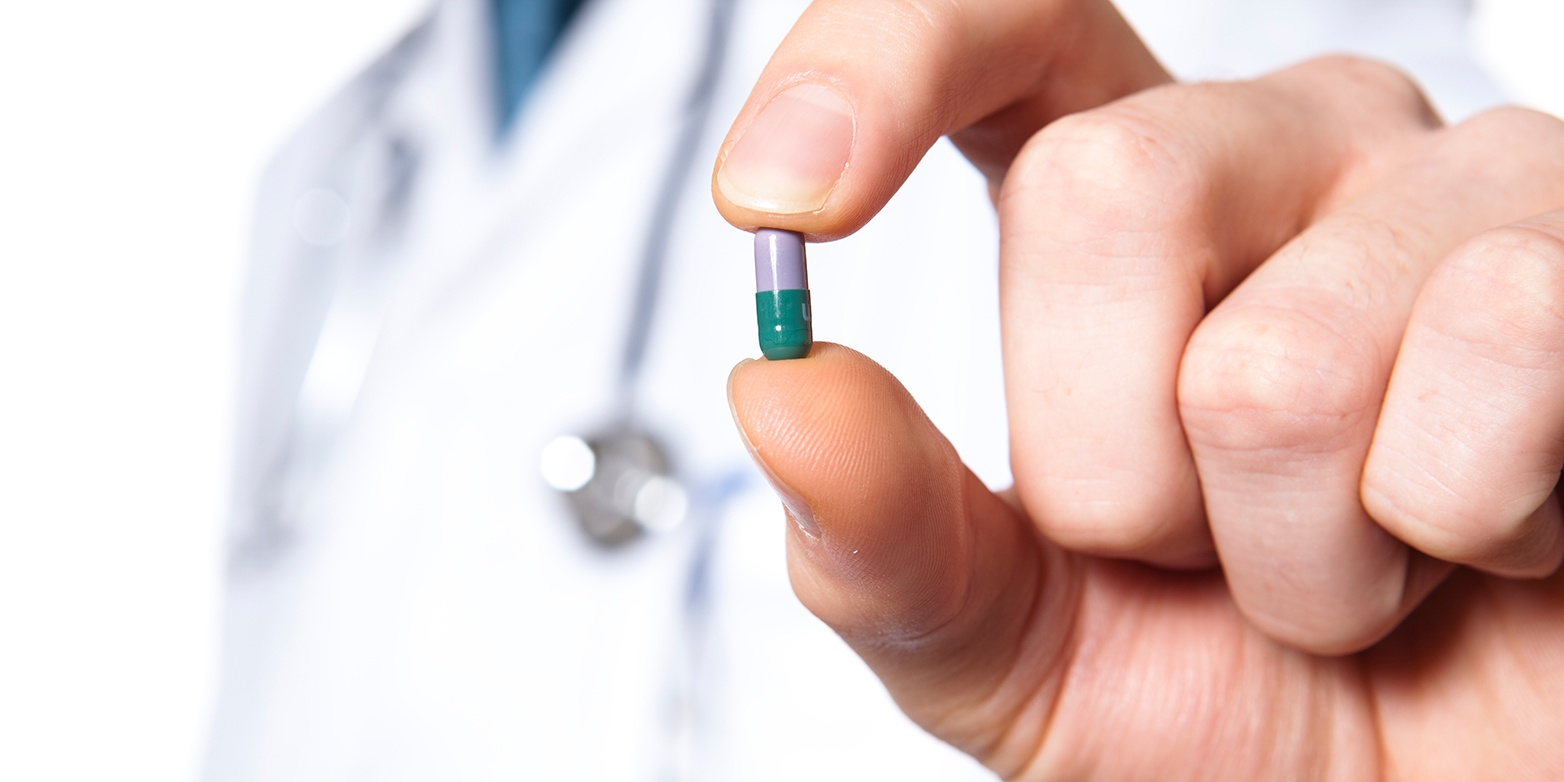pills: (740, 214, 830, 377)
